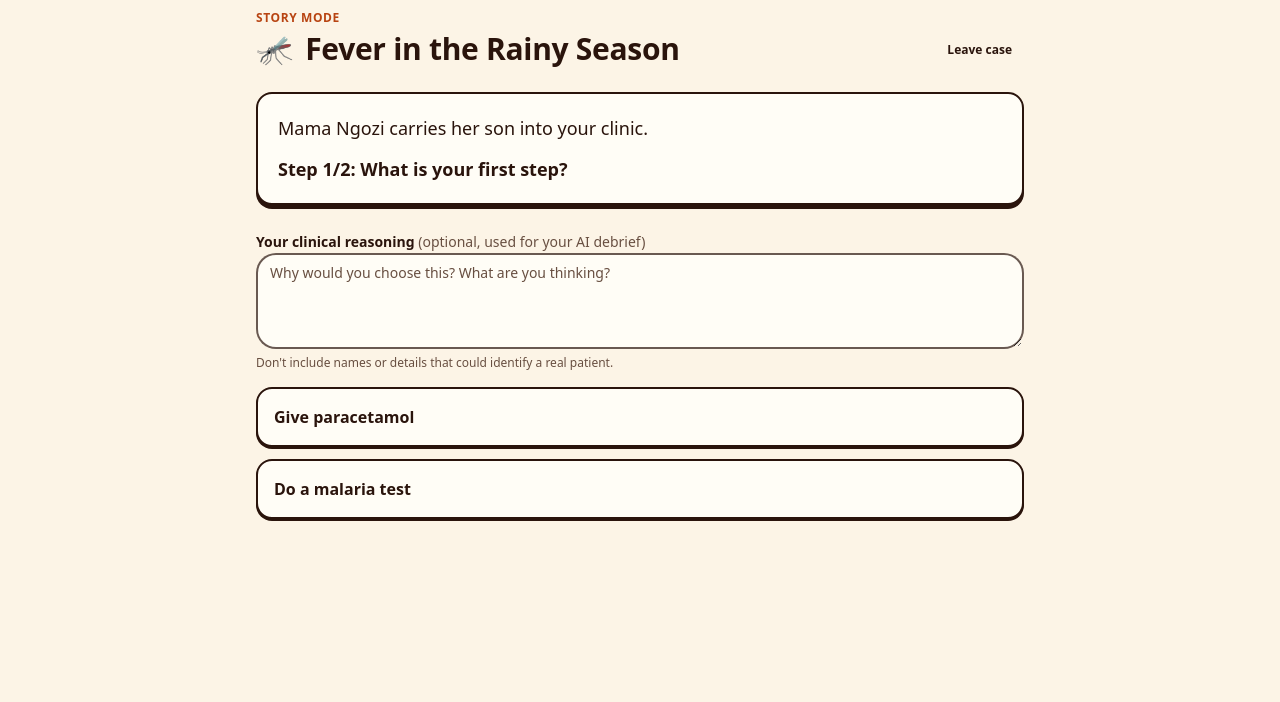
it: clinical gameplay › asks for AI consent before the first debrief
Click the button "Do a malaria test" at (342, 489), box [256, 459, 1024, 519]
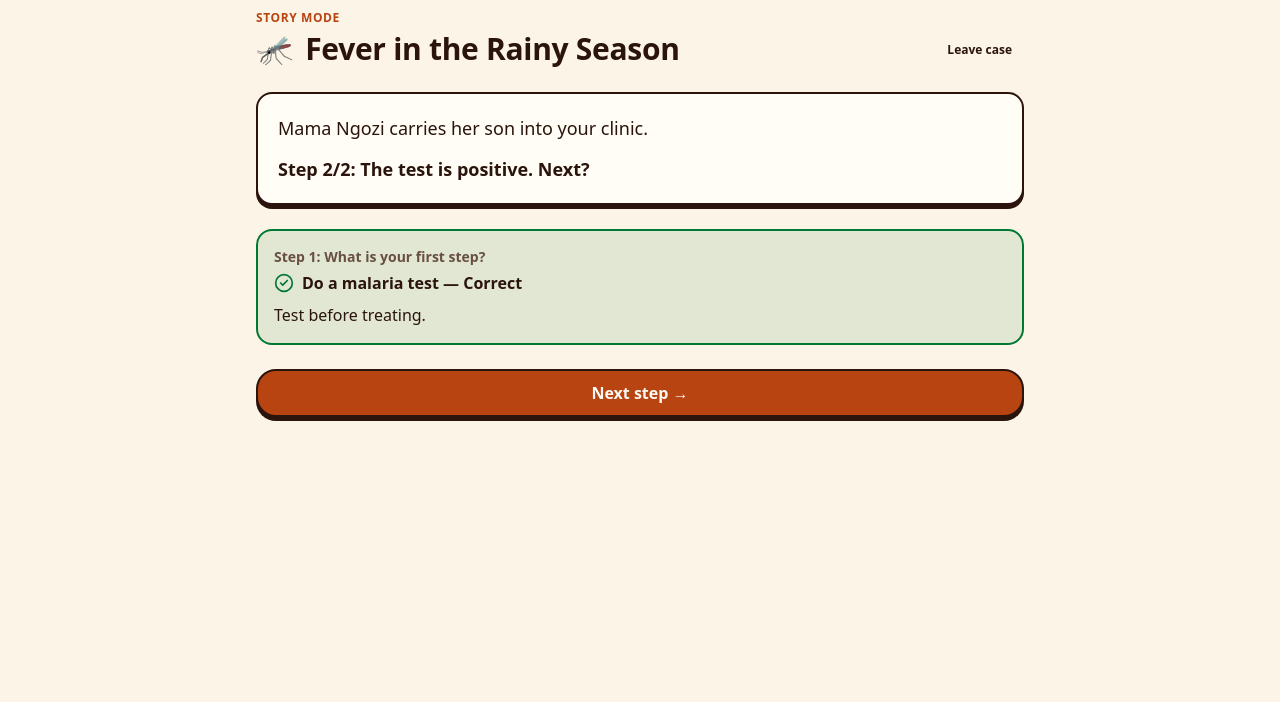
Click the button "Next step →" at (640, 393), box [256, 369, 1024, 417]
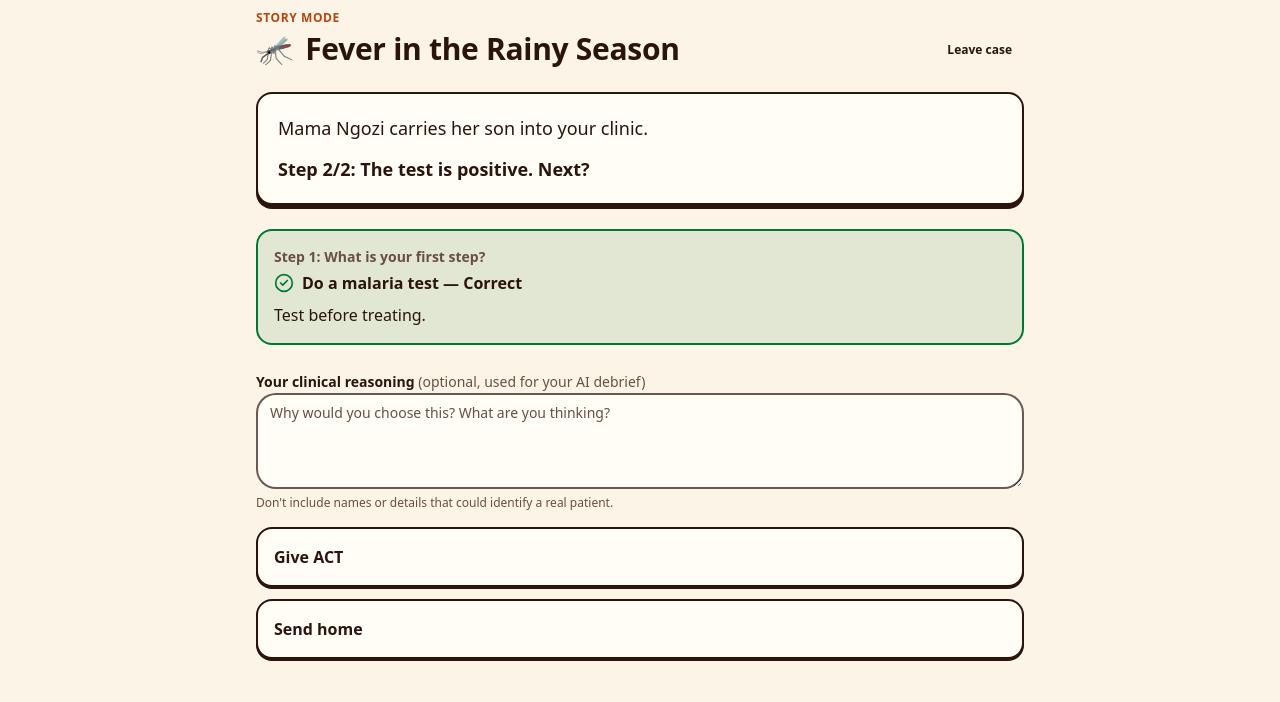
Click the button "Give ACT" at (309, 557), box [256, 527, 1024, 587]
(page scrolled)
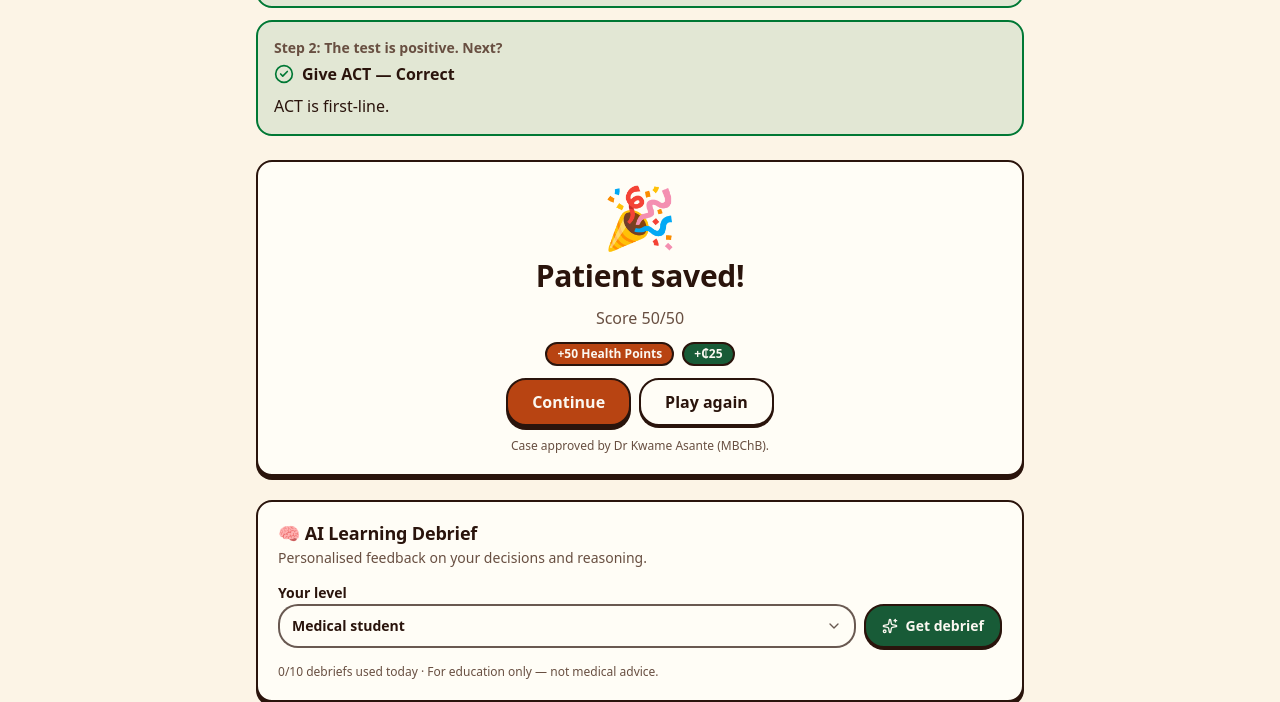
Now the button "Get debrief" is enabled
Click the button "Get debrief" at (933, 626), box [864, 604, 1002, 648]
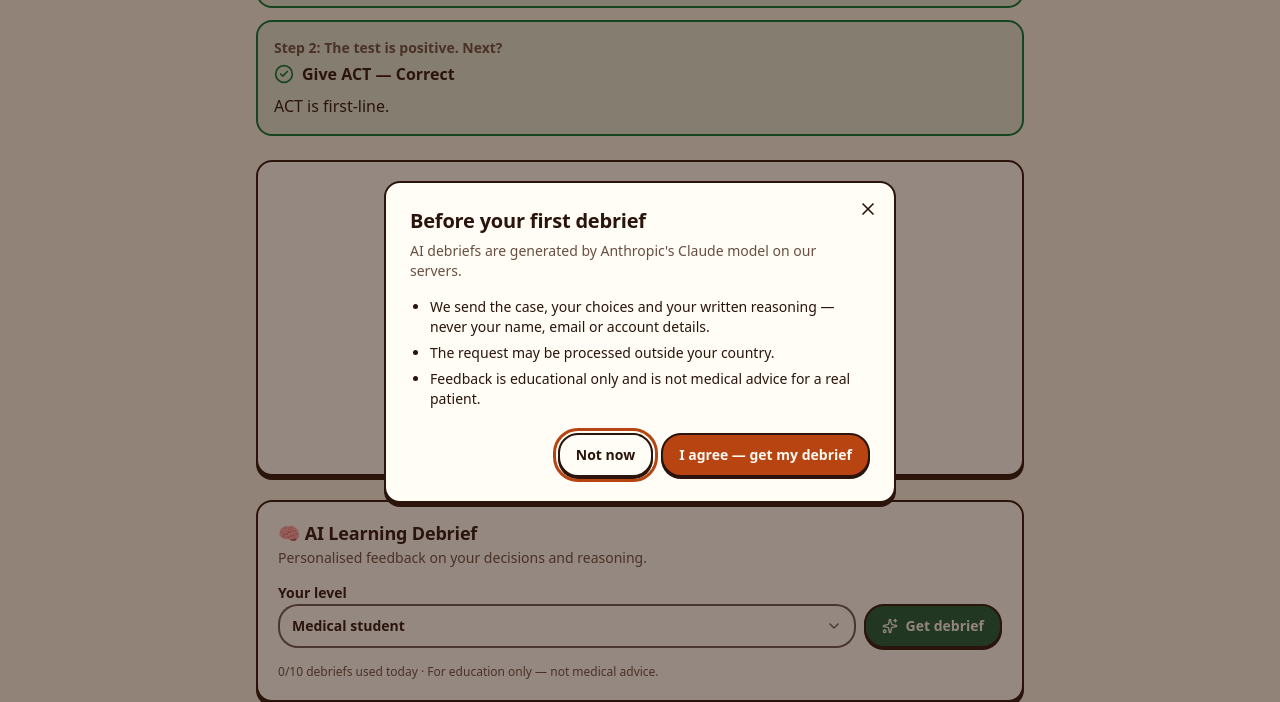
Now the heading "Before your first debrief" is shown, box [410, 207, 646, 234]
Now the list item "never your name, email or account details" is shown, box [430, 297, 834, 336]
